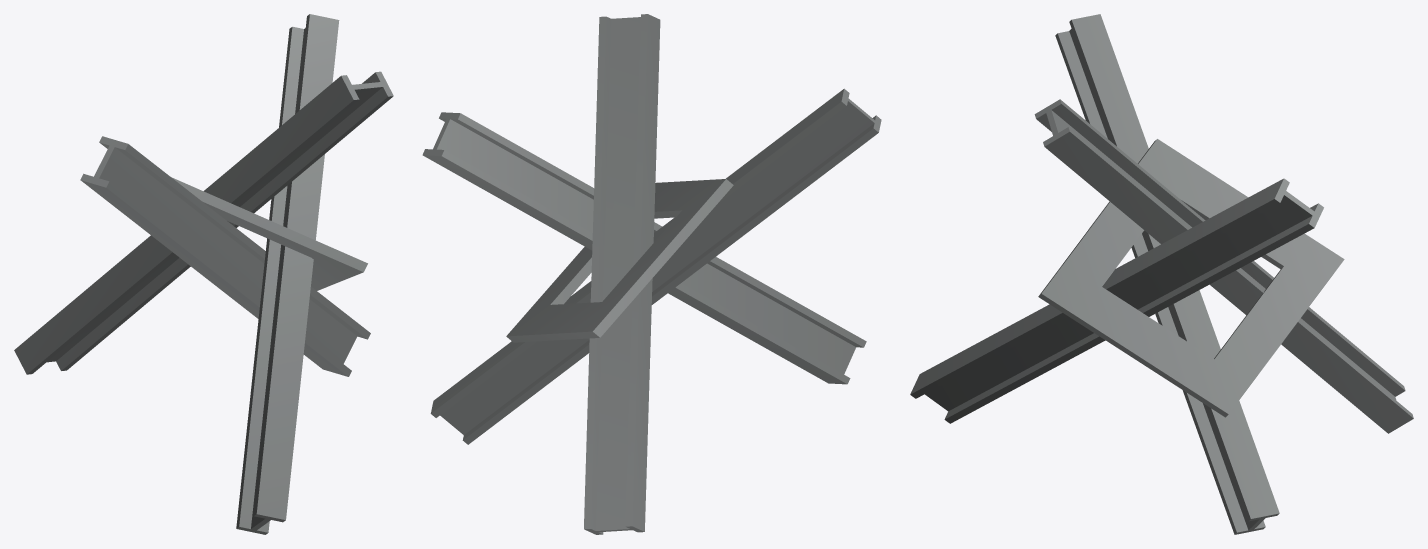
File: Tank_Trap.fbx
3 views of the same model, side by side, from view 1: azimuth 30°, elevation 25°; view 2: azimuth 150°, elevation 25°; view 3: azimuth 270°, elevation 25° (orthographic). The views are drawn at different scales.
Parts seen in each view (by area): view 1: Tank_trap; view 2: Tank_trap; view 3: Tank_trap.
Part boxes in pixels (x1,y1,x2,y2): Tank_trap: (14, 14, 393, 534); Tank_trap: (422, 14, 881, 534); Tank_trap: (910, 14, 1413, 534).
Bounding box in the file's own units: 197 × 196 × 229.
